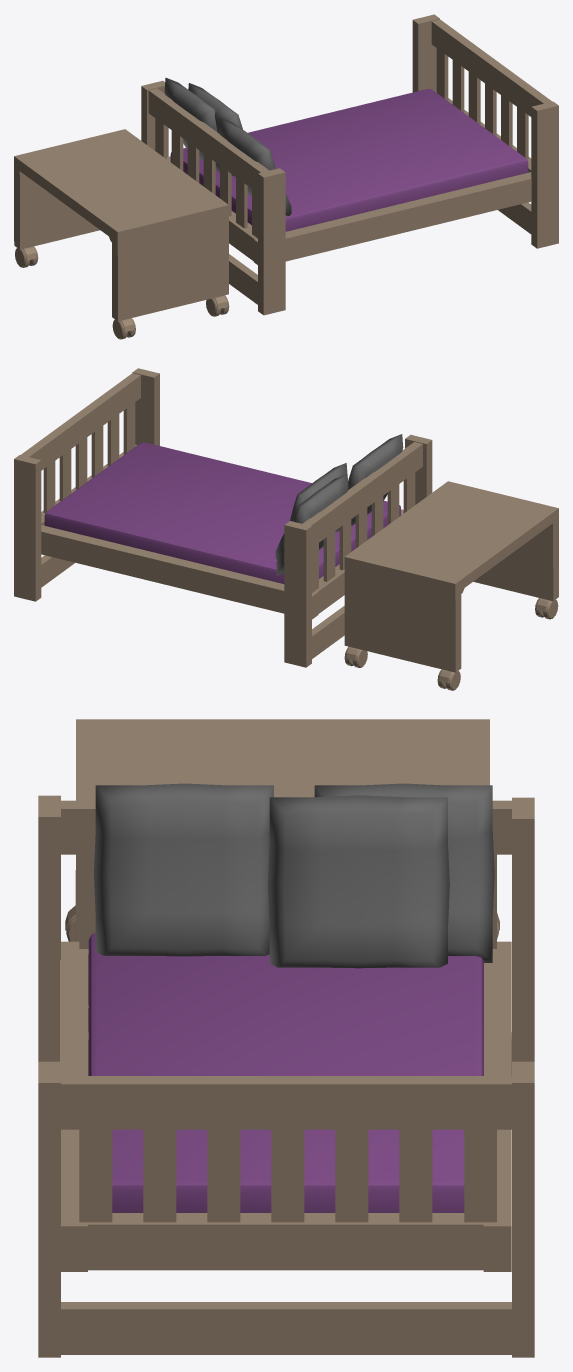
File: SM_Room_Bed.fbx
3 renders of one model, top to bottom at view 1: azimuth 30°, elevation 25°; view 2: azimuth 150°, elevation 25°; view 3: azimuth 270°, elevation 25°, orthographic. The views are drawn at different scales.
Visible parts, largest first — view 1: Bed_wood, Bureau, Mattress, cushion; view 2: Bed_wood, Bureau, Mattress, cushion; view 3: Bed_wood, cushion, Mattress, Bureau.
Part boxes in pixels (x1=…): Bed_wood: x1=141, y1=14, x2=558, y2=315; Bureau: x1=14, y1=129, x2=229, y2=339; Mattress: x1=170, y1=89, x2=528, y2=231; cushion: x1=164, y1=78, x2=291, y2=215; Bed_wood: x1=14, y1=368, x2=432, y2=667; Bureau: x1=344, y1=481, x2=558, y2=690; Mattress: x1=44, y1=442, x2=400, y2=583; cushion: x1=275, y1=434, x2=403, y2=575; Bed_wood: x1=38, y1=795, x2=534, y2=1357; cushion: x1=94, y1=783, x2=494, y2=968; Mattress: x1=88, y1=933, x2=483, y2=1212; Bureau: x1=65, y1=719, x2=499, y2=1032.
Bounding box in the file's own units: 341 × 115 × 170.
